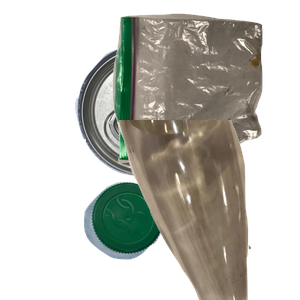glass: (115, 120, 300, 300)
metal: (73, 42, 277, 212)
plastic: (81, 179, 239, 300)
trash: (110, 11, 300, 167)
